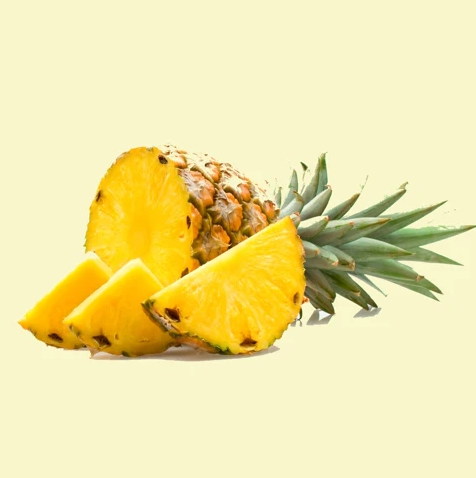pineapple: (138, 259, 331, 364)
